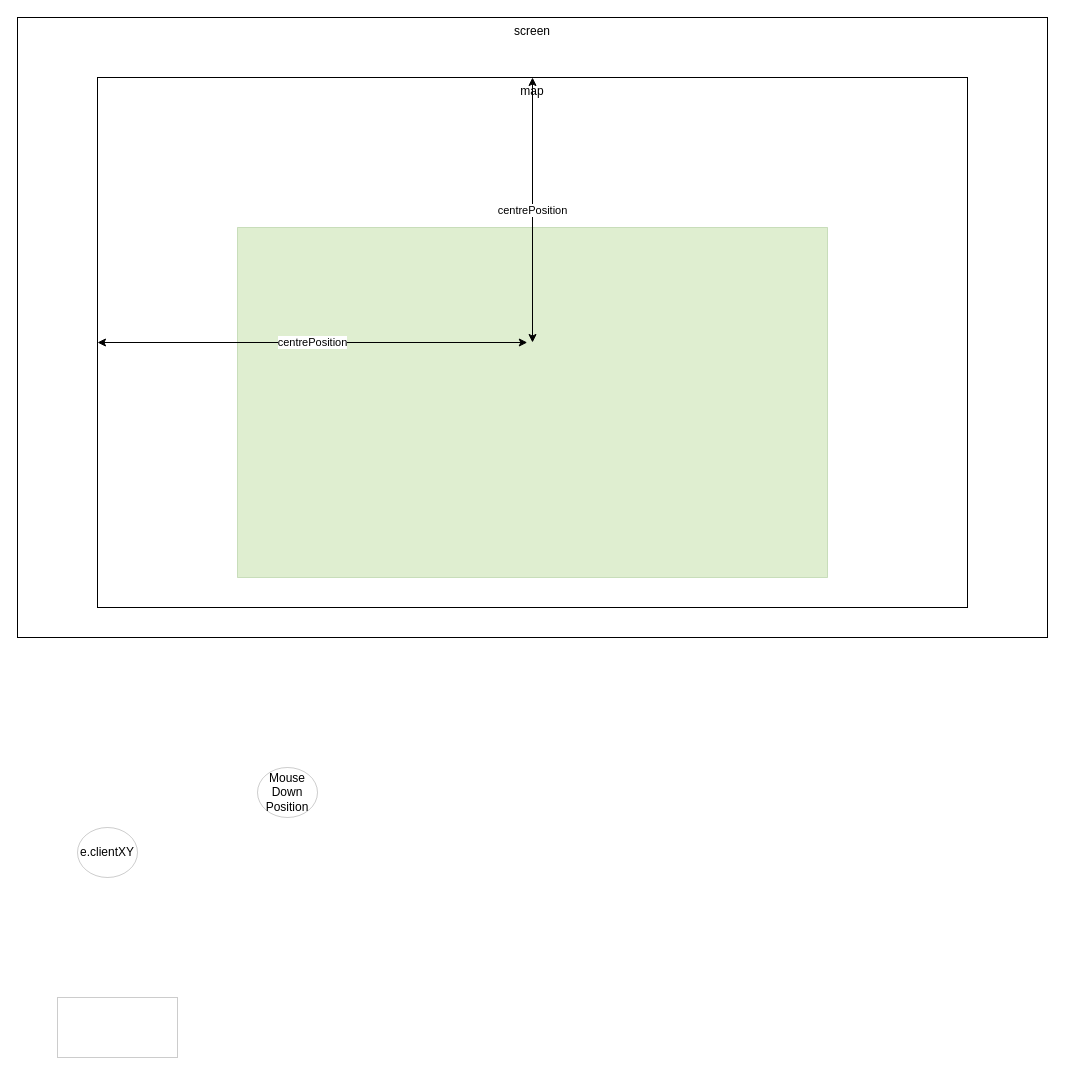
Some shapes in this 1065 by 1075 pixel diagram are drawn without their labels. The centre of each missing label's shape, as x and y in pixels:
child component: the point at 532,402
e.clientXY - MouseDown + offset: the point at 117,1027
